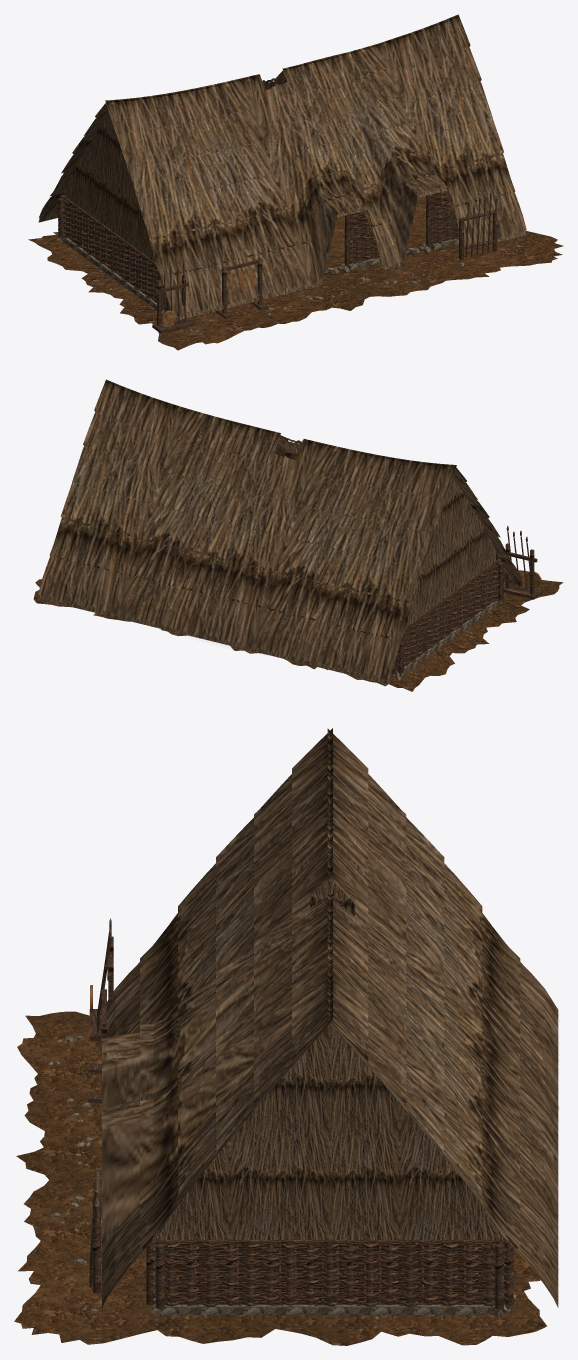
File: barracks.glb
3 views of the same model, one above another, from view 1: azimuth 30°, elevation 25°; view 2: azimuth 150°, elevation 25°; view 3: azimuth 270°, elevation 25° (orthographic). The views are drawn at different scales.
Parts seen in each view (by area): view 1: part_13, part_1, part_7, part_5, part_6, part_4, part_0, part_8; view 2: part_13, part_1, part_7, part_6, part_5, part_4; view 3: part_13, part_1, part_5, part_7, part_6, part_4.
Boxes of the visible parts, x1,y1,x2,y2 form: part_13: (38,14,526,320); part_1: (28,231,563,350); part_7: (58,194,497,333); part_5: (64,172,456,309); part_6: (58,199,458,308); part_4: (61,188,497,314); part_0: (325,196,426,269); part_8: (161,268,255,327); part_13: (38,379,522,684); part_1: (33,570,563,691); part_7: (391,532,542,674); part_6: (396,563,503,671); part_5: (396,554,499,668); part_4: (390,526,527,678); part_13: (102,728,558,1307); part_1: (14,1011,546,1345); part_5: (154,1232,505,1304); part_7: (88,929,513,1309); part_6: (150,1237,509,1306); part_4: (94,918,511,1316).
Bounding box in the file's own units: 8.93 × 3.82 × 6.17.
14 materials, 9 textured.
